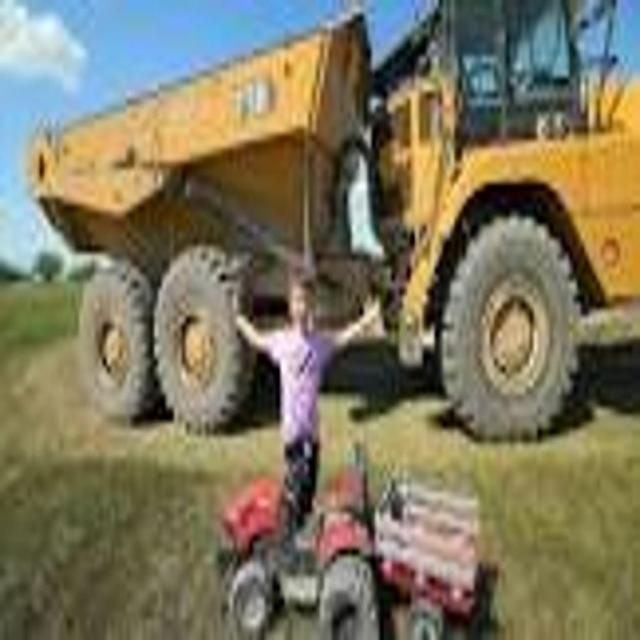dump_truck: (22, 9, 640, 455)
